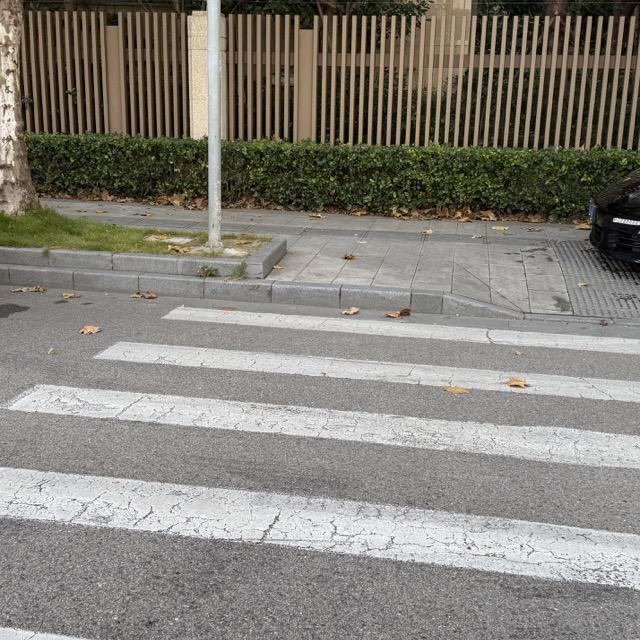curb: (0, 264, 461, 313), (0, 237, 286, 279), (443, 296, 524, 317)
